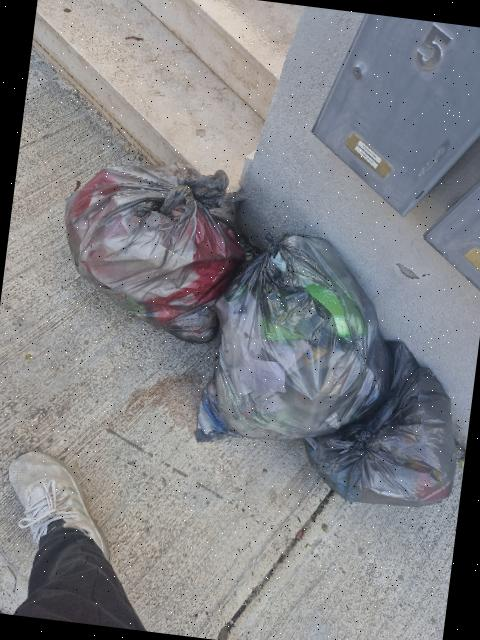Recyclable -Grey-: (196, 233, 390, 441), (65, 162, 251, 342), (305, 341, 456, 506)
